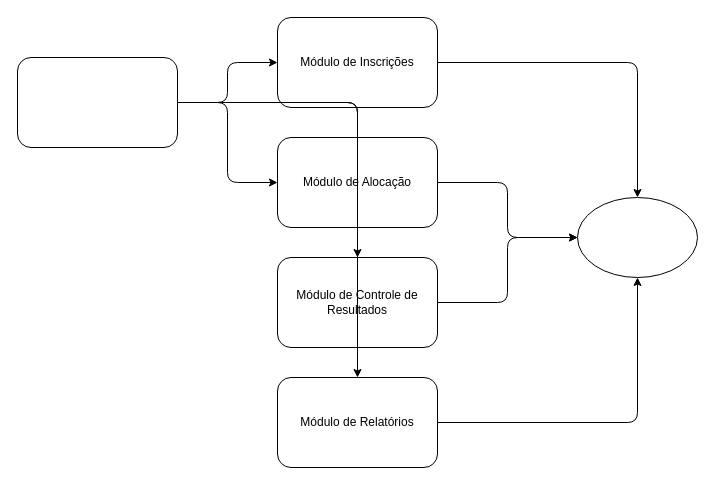
This 715x485 diagram has some shape labels left out. The centre of each missing label's shape, as x and y in pixels:
"Banco de Dados" goes at pixel 637 237.
"Interface de Usuário" goes at pixel 97 102.
